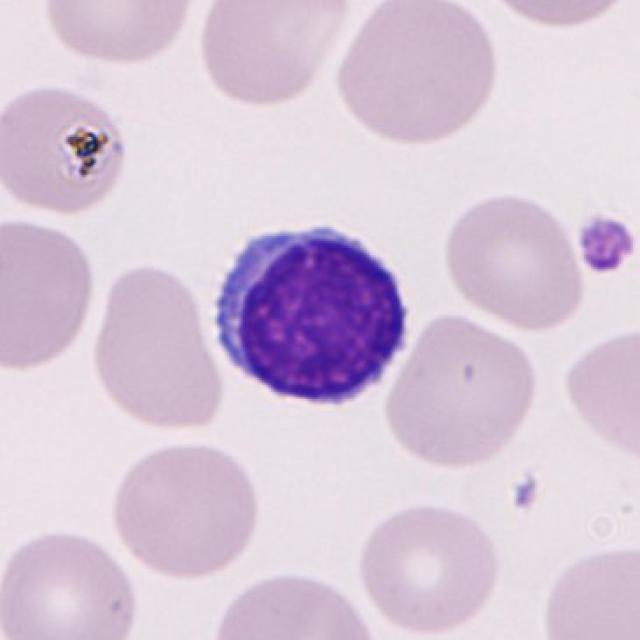Lymphocyte: (200, 208, 422, 416)
Platelets: (570, 210, 638, 279), (59, 115, 121, 185), (507, 470, 540, 515)
RBC: (378, 308, 542, 472), (329, 0, 502, 147), (86, 258, 227, 436), (105, 437, 264, 581), (439, 189, 591, 333), (352, 496, 506, 638), (0, 76, 135, 220), (192, 0, 355, 111), (0, 522, 145, 640), (0, 213, 100, 375), (204, 565, 384, 640), (558, 321, 638, 463), (38, 0, 199, 69), (535, 537, 638, 640), (471, 0, 638, 33)
